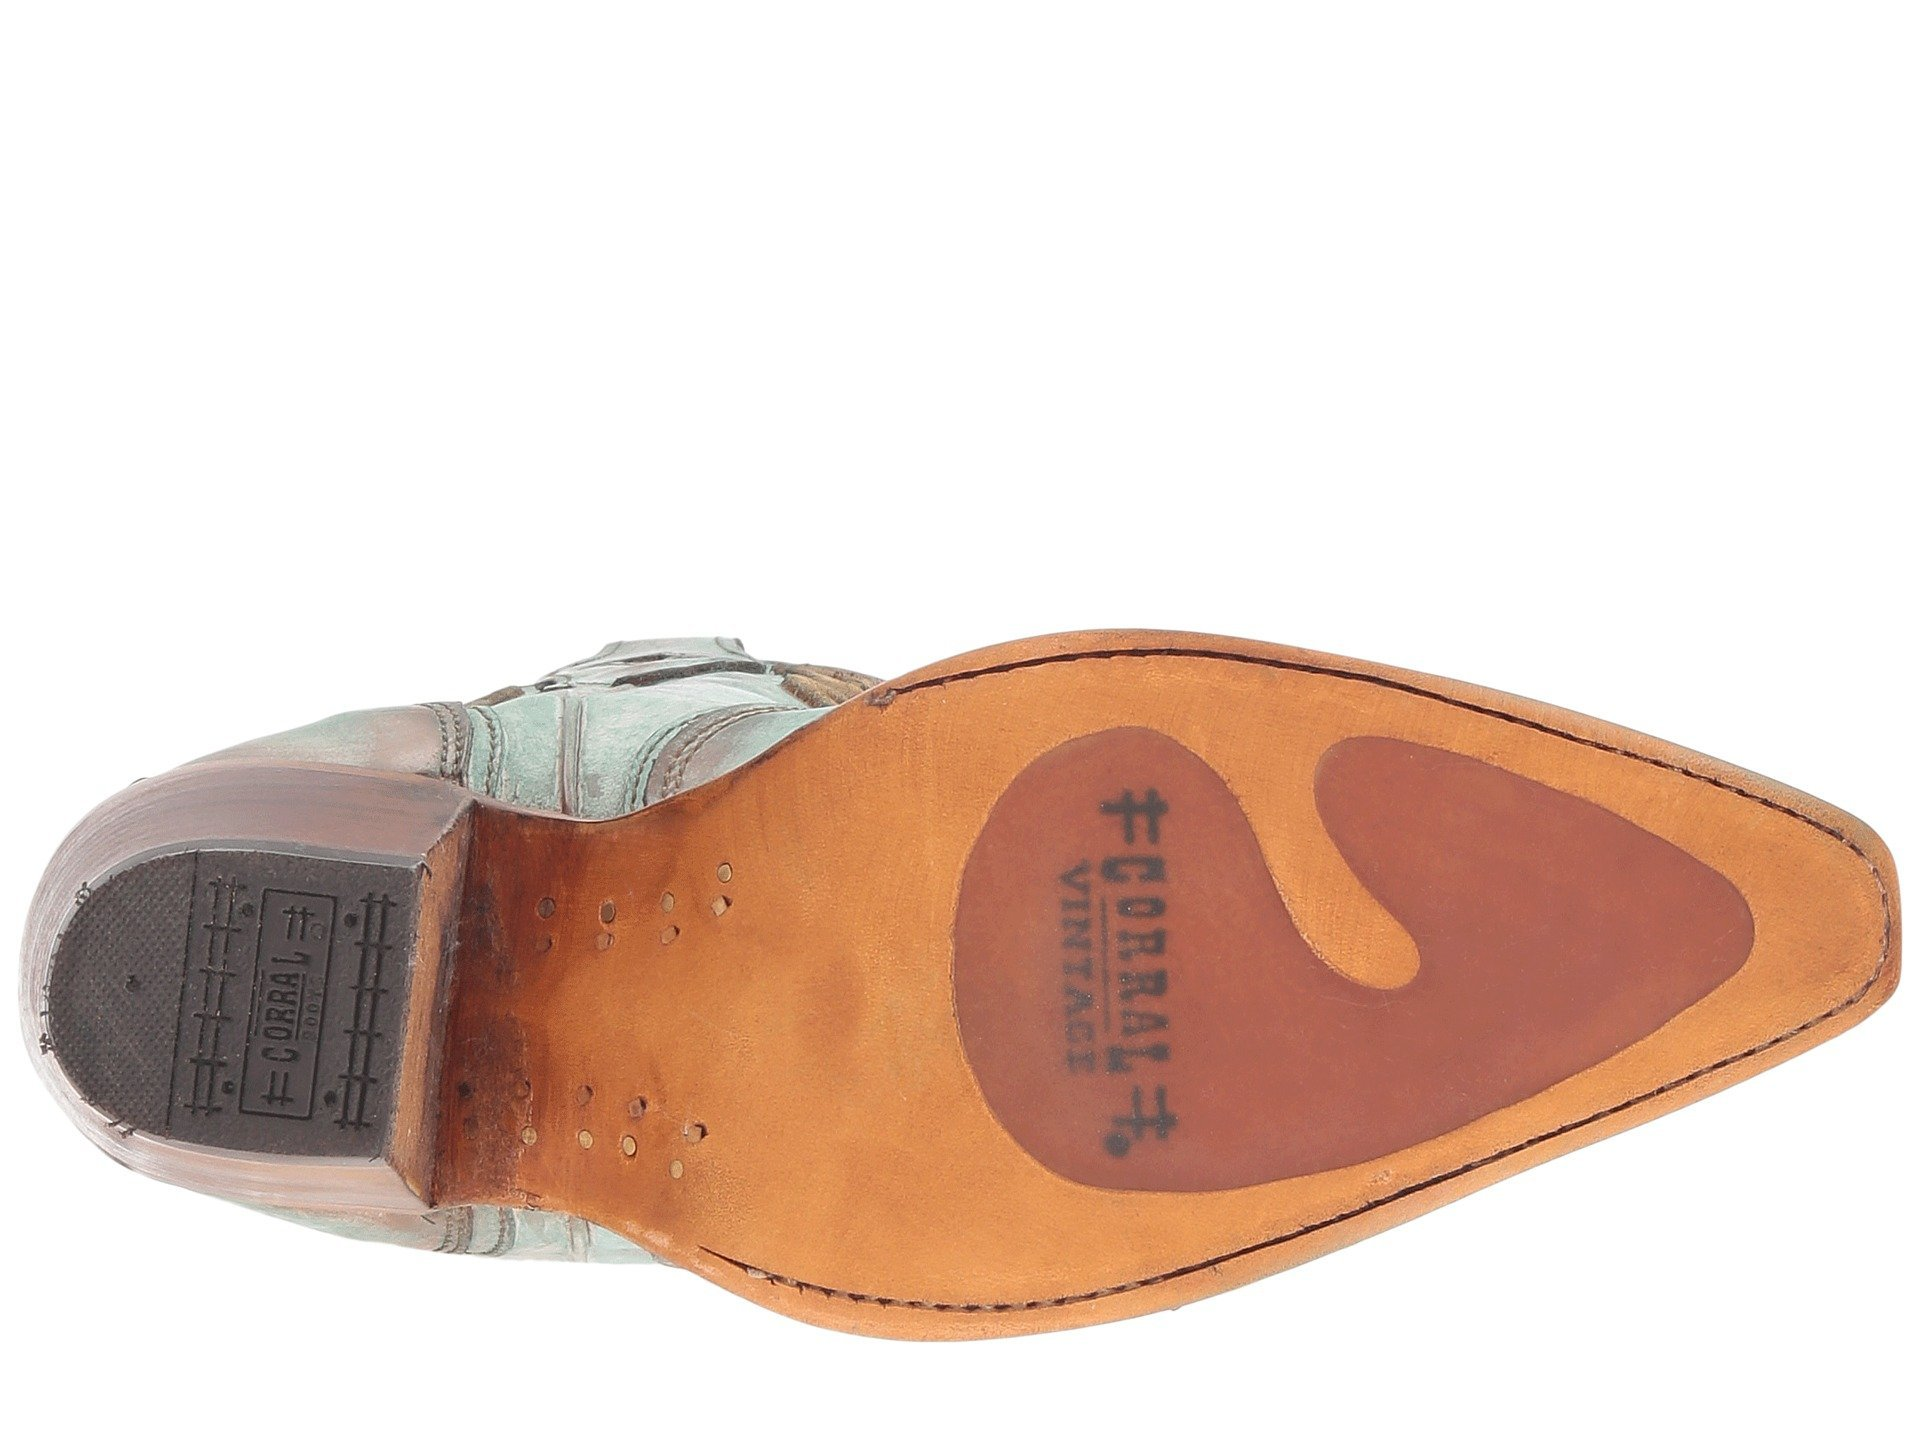circle: (1042, 764, 1217, 1196), (169, 867, 402, 1137)
line: (1042, 764, 1217, 1196)
quad: (169, 867, 402, 1137)
text: (1042, 764, 1217, 1196), (169, 867, 402, 1137)
